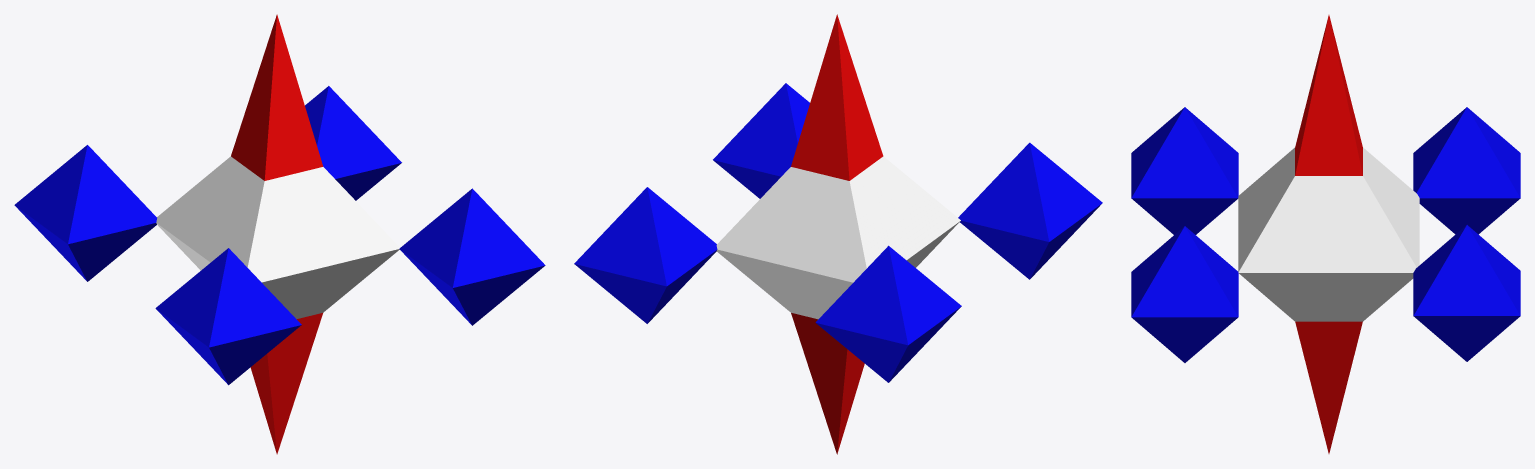
Rendered from HedraBot.FBX.
The picture shows the model from 3 angles, left to right: view 1: azimuth 30°, elevation 25°; view 2: azimuth 150°, elevation 25°; view 3: azimuth 270°, elevation 25°; orthographic projection.
Parts seen in each view (by area): view 1: Hedra001; view 2: Hedra001; view 3: Hedra001.
Boxes of the visible parts, <box> form: Hedra001: <box>14,14,545,454</box>; Hedra001: <box>574,14,1102,454</box>; Hedra001: <box>1131,15,1520,453</box>.
Size of the model in its own units: 41.56 by 41.63 by 52.02.
